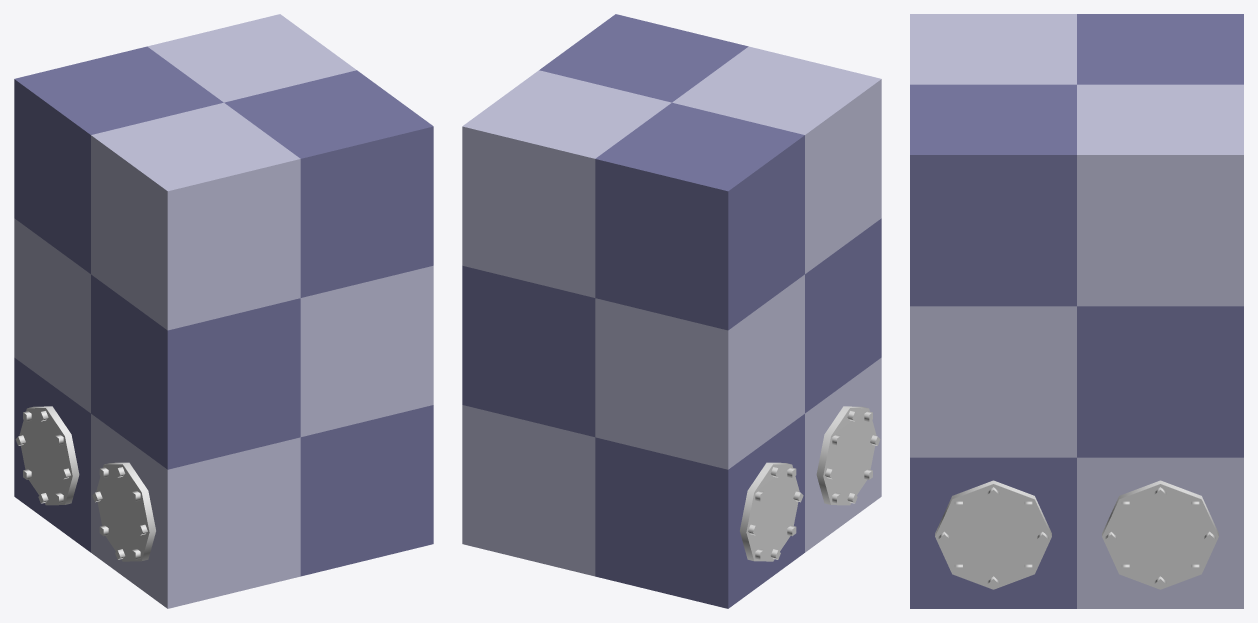
Rendered from fluidmini.fbx.
3 renders of one model, left to right at view 1: azimuth 30°, elevation 25°; view 2: azimuth 150°, elevation 25°; view 3: azimuth 270°, elevation 25°, orthographic. The views are drawn at different scales.
Parts seen in each view (by area): view 1: SmallStorage_StorageFluidMini; view 2: SmallStorage_StorageFluidMini; view 3: SmallStorage_StorageFluidMini.
Boxes of the visible parts, x1,y1,x2,y2 form: SmallStorage_StorageFluidMini: [14, 14, 433, 608]; SmallStorage_StorageFluidMini: [462, 14, 881, 608]; SmallStorage_StorageFluidMini: [910, 14, 1243, 608].
Bounding box in the file's own units: 435 × 600 × 400.
